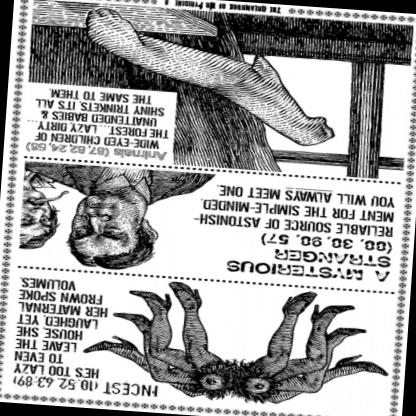Animal: (82, 276, 392, 414), (76, 10, 348, 150)
